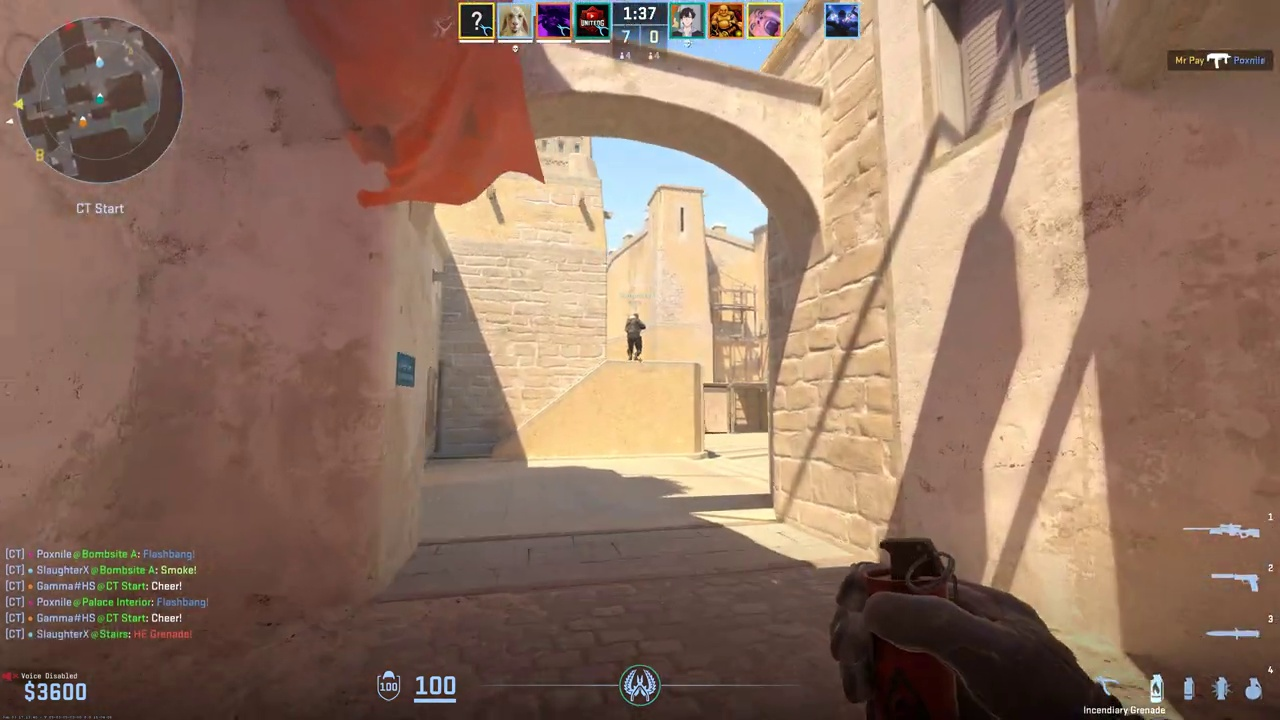CT: (626, 313, 644, 361)
